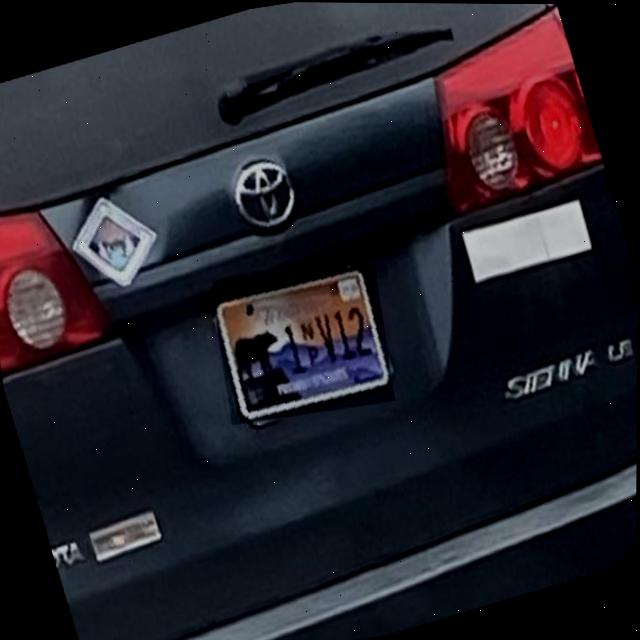LicensePlate: (214, 265, 393, 423)
